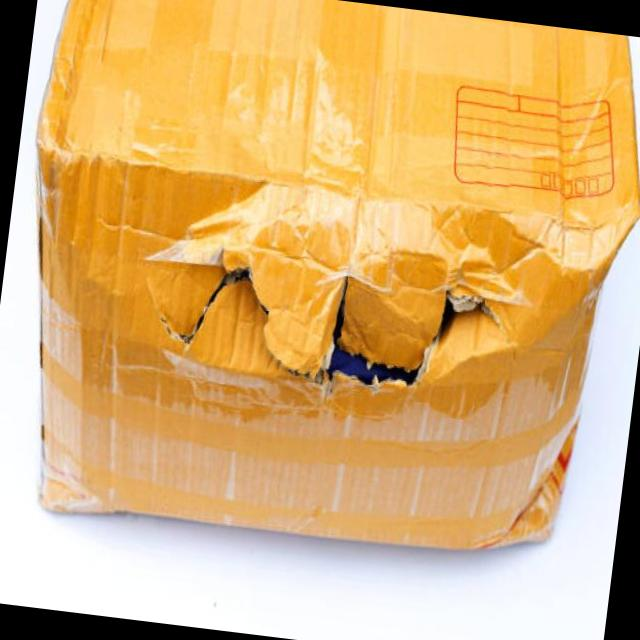box: (35, 1, 638, 557)
crushed: (418, 172, 640, 270), (97, 189, 356, 253)
tear: (154, 250, 506, 395)
